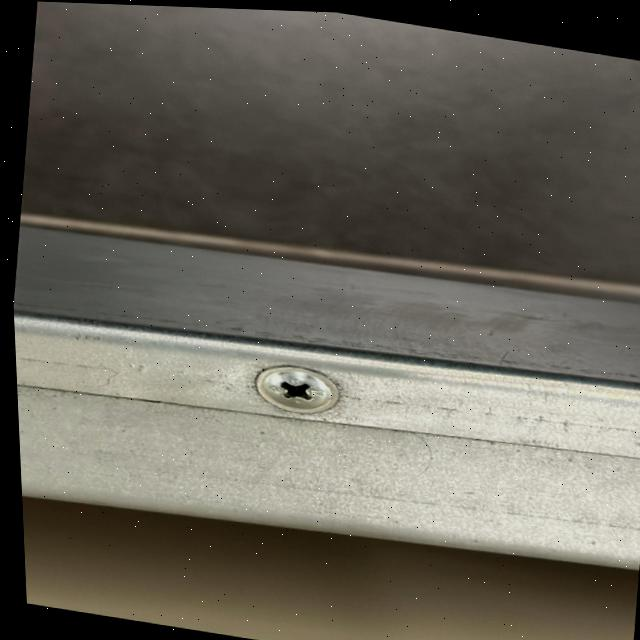Phillips: (243, 360, 360, 417)
